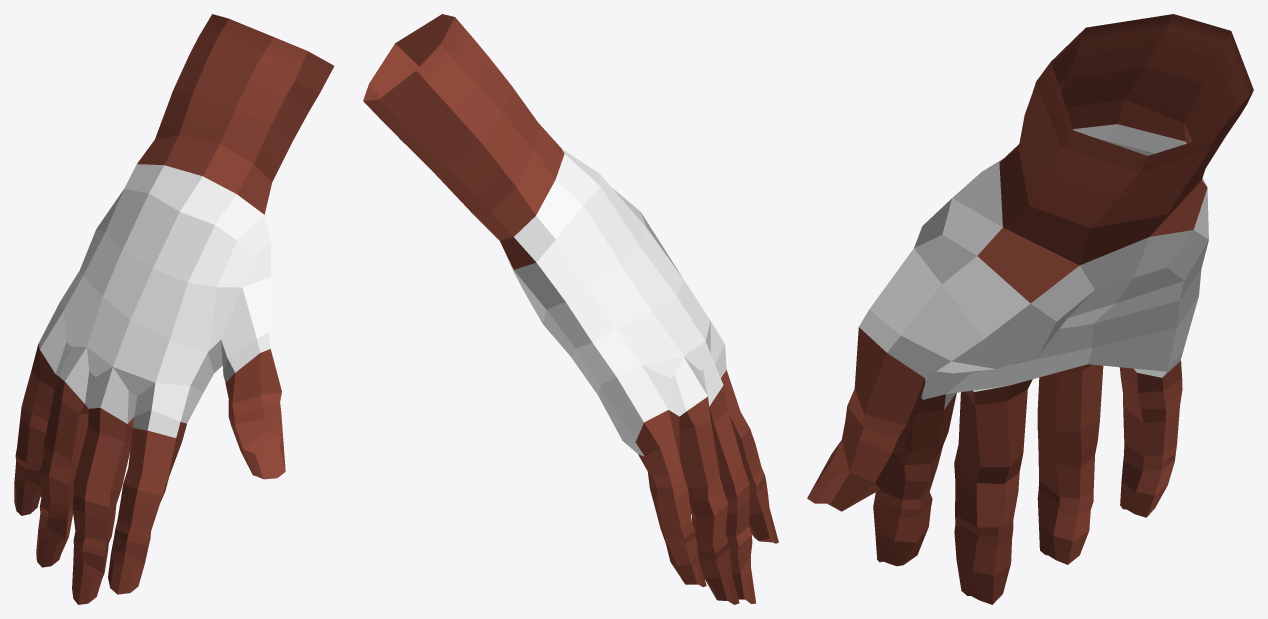
The model's file is hand.obj.
3 renders of one model, left to right at view 1: azimuth 30°, elevation 25°; view 2: azimuth 150°, elevation 25°; view 3: azimuth 270°, elevation 25°, orthographic. The views are drawn at different scales.
Parts seen in each view (by area): view 1: Plane005; view 2: Plane005; view 3: Plane005.
Boxes of the visible parts, <box> form: Plane005: <box>14,14,334,604</box>; Plane005: <box>363,14,778,604</box>; Plane005: <box>807,14,1253,604</box>.
Bounding box in the file's own units: 0.6516 × 1.02 × 0.5565.
